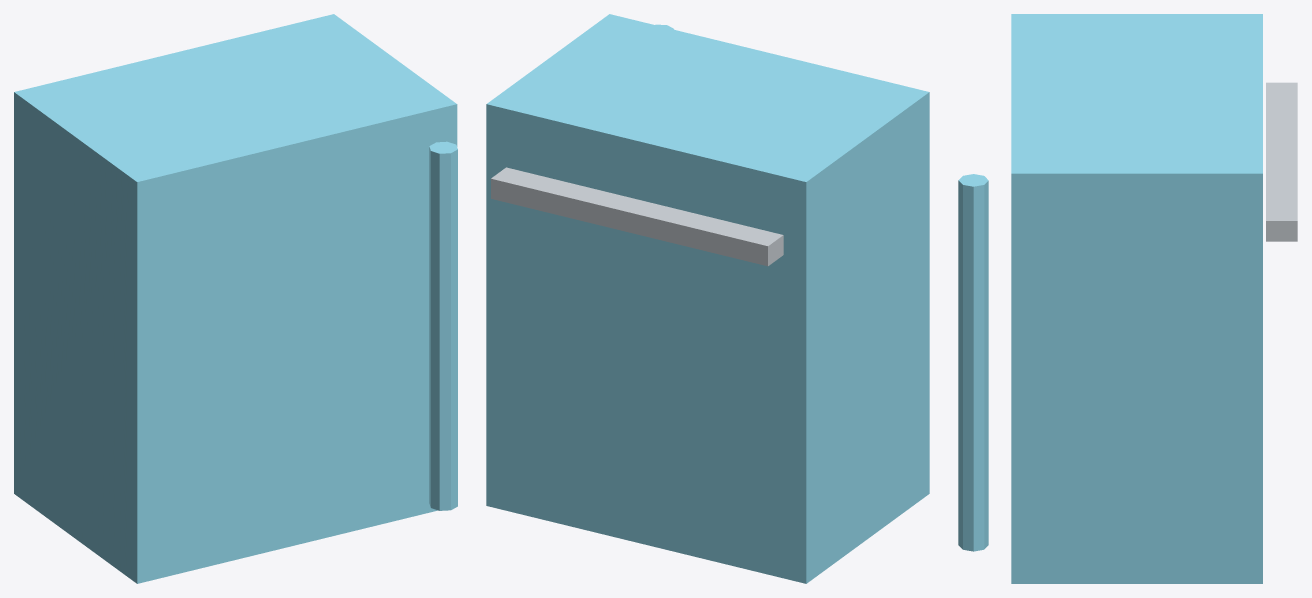
The model's file is refri_2.glb.
The picture shows the model from 3 angles, left to right: view 1: azimuth 30°, elevation 25°; view 2: azimuth 150°, elevation 25°; view 3: azimuth 270°, elevation 25°; orthographic projection. The views are drawn at different scales.
Visible parts, largest first — view 1: cuerpo, tubo; view 2: cuerpo, aleta; view 3: cuerpo, tubo, aleta.
Part boxes in pixels (x1,y1,x2,y2): cuerpo: (14,14,457,583); tubo: (429,141,457,510); cuerpo: (486,14,929,583); aleta: (491,167,783,266); cuerpo: (1011,14,1262,583); tubo: (958,174,988,551); aleta: (1266,82,1297,241).
Size of the model in its own units: 0.75 by 0.9 by 0.6737.
